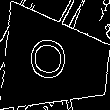O_E: (33, 38, 80, 87)
